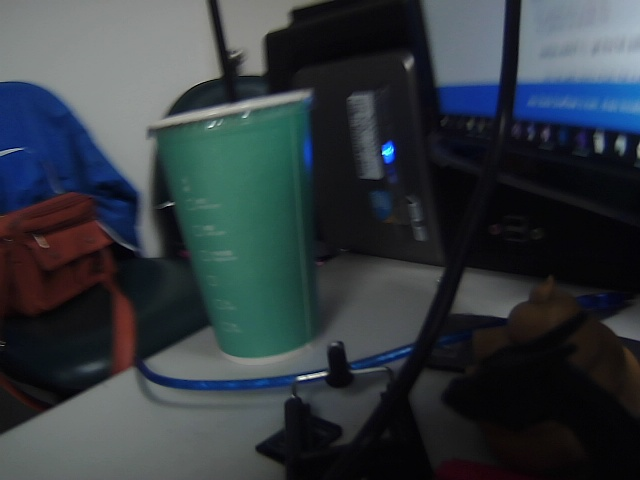beverage: (139, 2, 336, 364)
